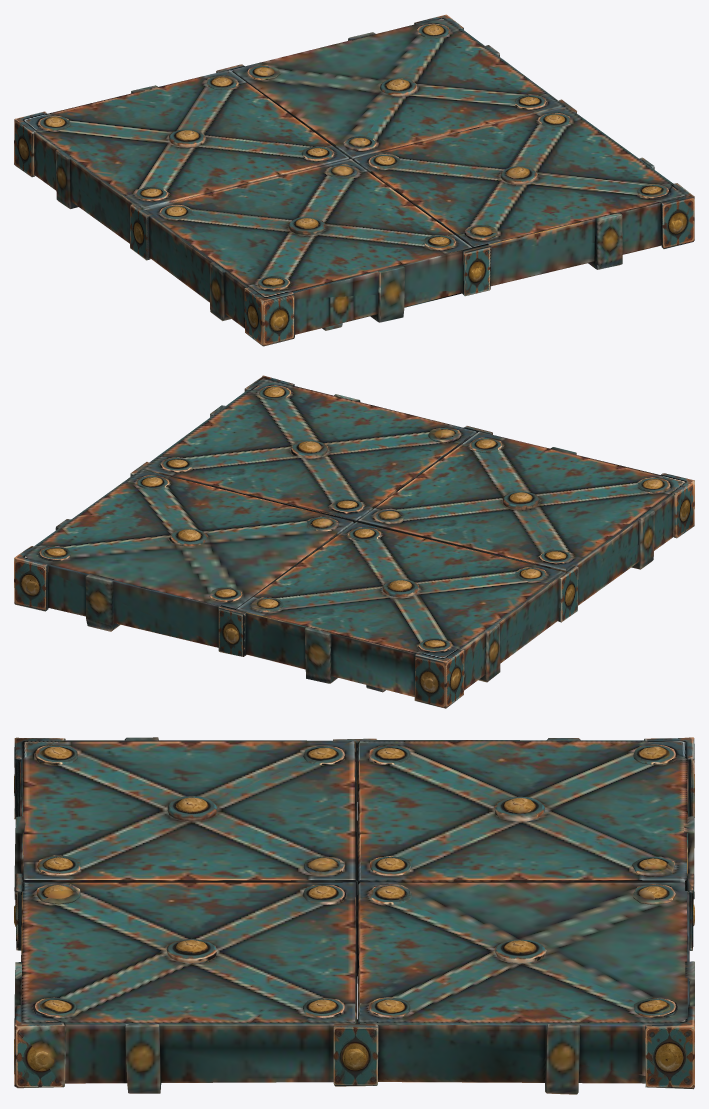
The model's file is metal-deck.glb.
3 renders of one model, top to bottom at view 1: azimuth 30°, elevation 25°; view 2: azimuth 150°, elevation 25°; view 3: azimuth 270°, elevation 25°, orthographic. The views are drawn at different scales.
Bounding box in the file's own units: 1 × 0.1321 × 1.
1 material, 1 textured.
